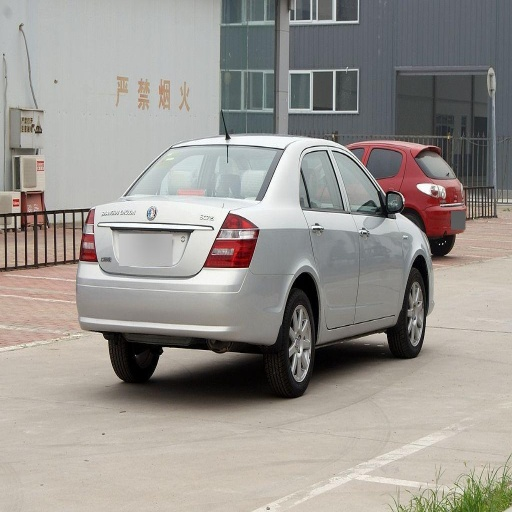back_bumper: (77, 263, 290, 344)
back_right_door: (297, 145, 358, 330)
